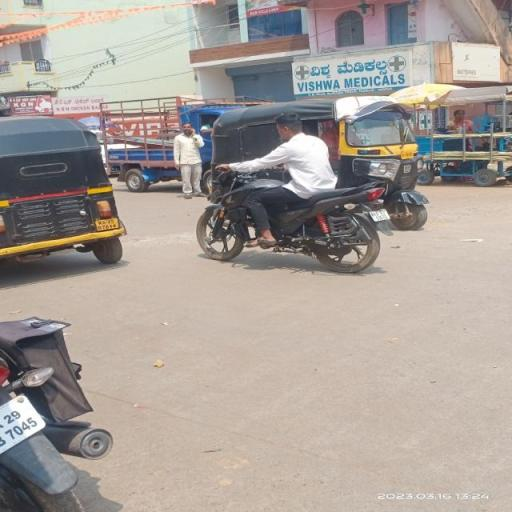bike: (194, 112, 396, 275)
withouthelmet: (274, 114, 301, 136)
